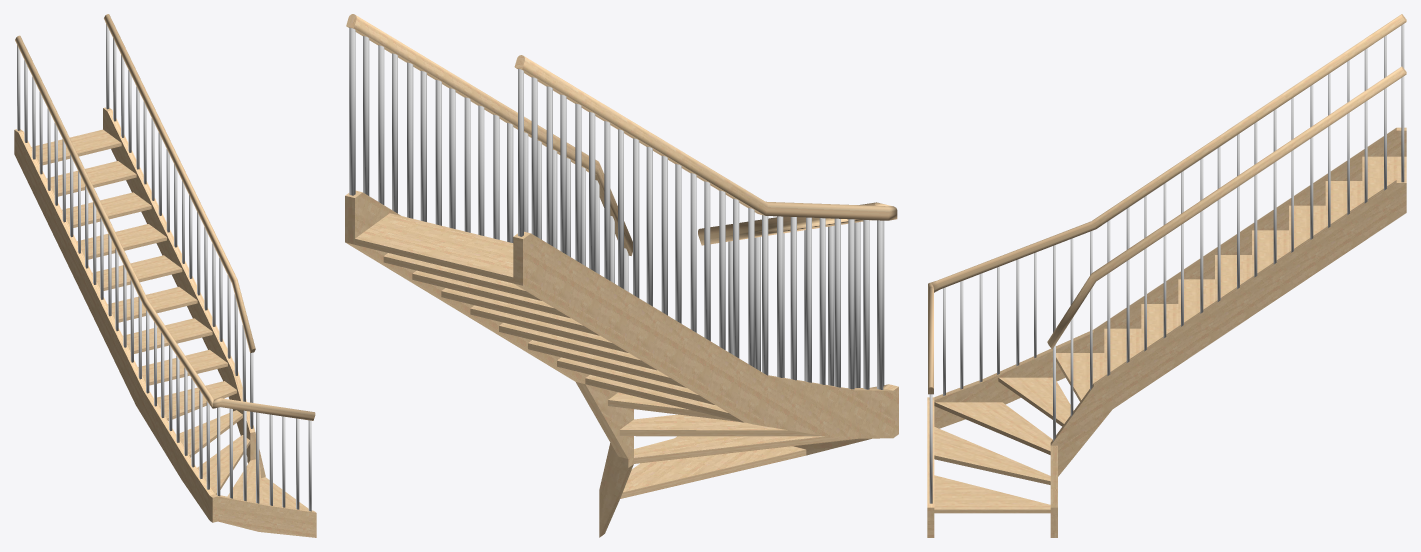
File: sweethome3d-contributions-bottom-winder-staircase-444.glb
3 renders of one model, left to right at view 1: azimuth 30°, elevation 25°; view 2: azimuth 150°, elevation 25°; view 3: azimuth 270°, elevation 25°, orthographic. The views are drawn at different scales.
Visible parts, largest first — view 1: 20_20, 16_16, 27_27.003, 27_27.000_27_27.004, 17_17, 2_2.000, 27_27.002, 2_2.002_2_2.004, 2_2.001; view 2: 20_20, 27_27.003, 16_16, 27_27.000_27_27.004, 17_17, 2_2.000, 27_27.002, 2_2.002_2_2.004, 2_2.001; view 3: 20_20, 17_17, 16_16, 27_27.000_27_27.004, 27_27.003, 2_2.000, 2_2.002_2_2.004, 2_2.001.
Part boxes in pixels (x1,y1,x2,y2): 20_20: (31,129,308,509); 16_16: (14,129,316,537); 27_27.003: (17,45,209,489); 27_27.000_27_27.004: (106,24,253,428); 17_17: (103,107,265,477); 2_2.000: (15,35,213,408); 27_27.002: (217,407,311,511); 2_2.002_2_2.004: (104,14,255,352); 2_2.001: (213,398,315,420); 20_20: (355,213,857,498); 27_27.003: (518,69,883,389); 16_16: (513,231,898,455); 27_27.000_27_27.004: (349,27,628,291); 17_17: (345,190,633,537); 2_2.000: (514,55,897,220); 27_27.002: (710,220,884,387); 2_2.002_2_2.004: (346,14,632,255); 2_2.001: (698,202,892,245); 20_20: (934,156,1406,513); 17_17: (1050,180,1406,537); 16_16: (927,127,1406,537); 27_27.000_27_27.004: (1053,76,1404,441); 27_27.003: (943,24,1404,395); 2_2.000: (930,14,1406,292); 2_2.002_2_2.004: (1047,66,1406,349); 2_2.001: (928,283,933,394).
Size of the model in its own units: 100 by 352 by 330.
8 materials, 5 textured.
